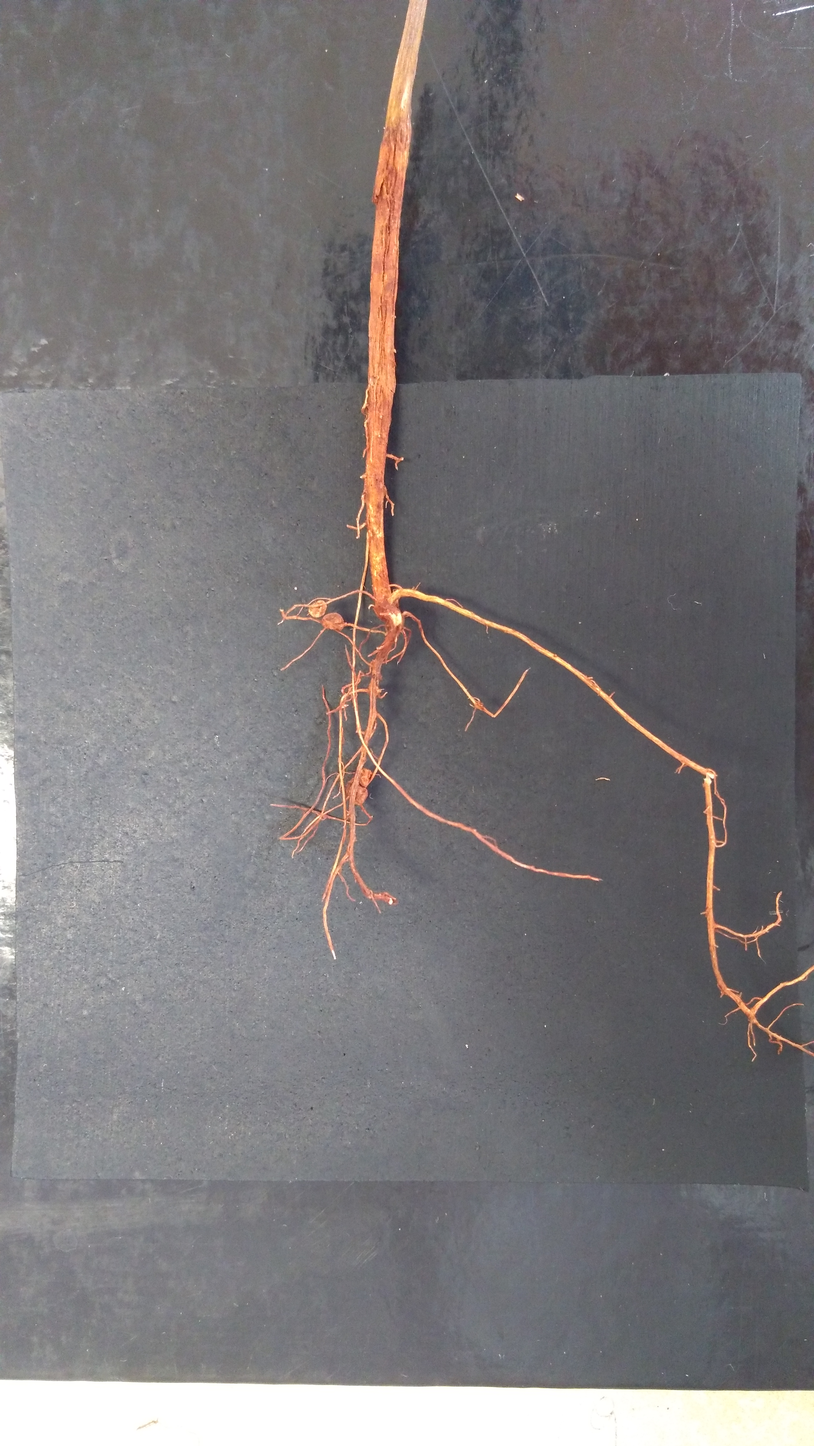nodule: (321, 613, 344, 630), (308, 600, 327, 617), (345, 777, 360, 796), (360, 768, 373, 787), (356, 788, 368, 805)
